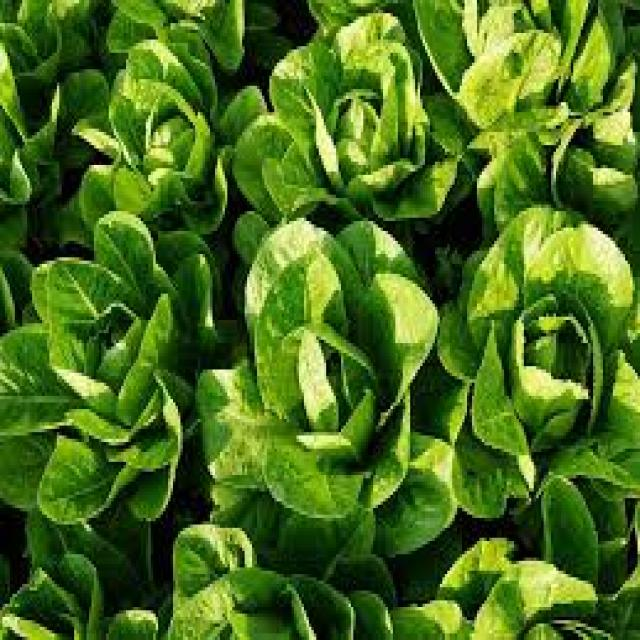organic waste: (0, 0, 638, 637), (192, 211, 454, 554), (0, 201, 225, 521), (435, 201, 637, 518), (410, 0, 638, 205), (232, 0, 452, 211), (156, 508, 440, 637), (57, 0, 235, 201), (438, 458, 638, 636), (0, 501, 158, 637), (0, 0, 101, 204)
